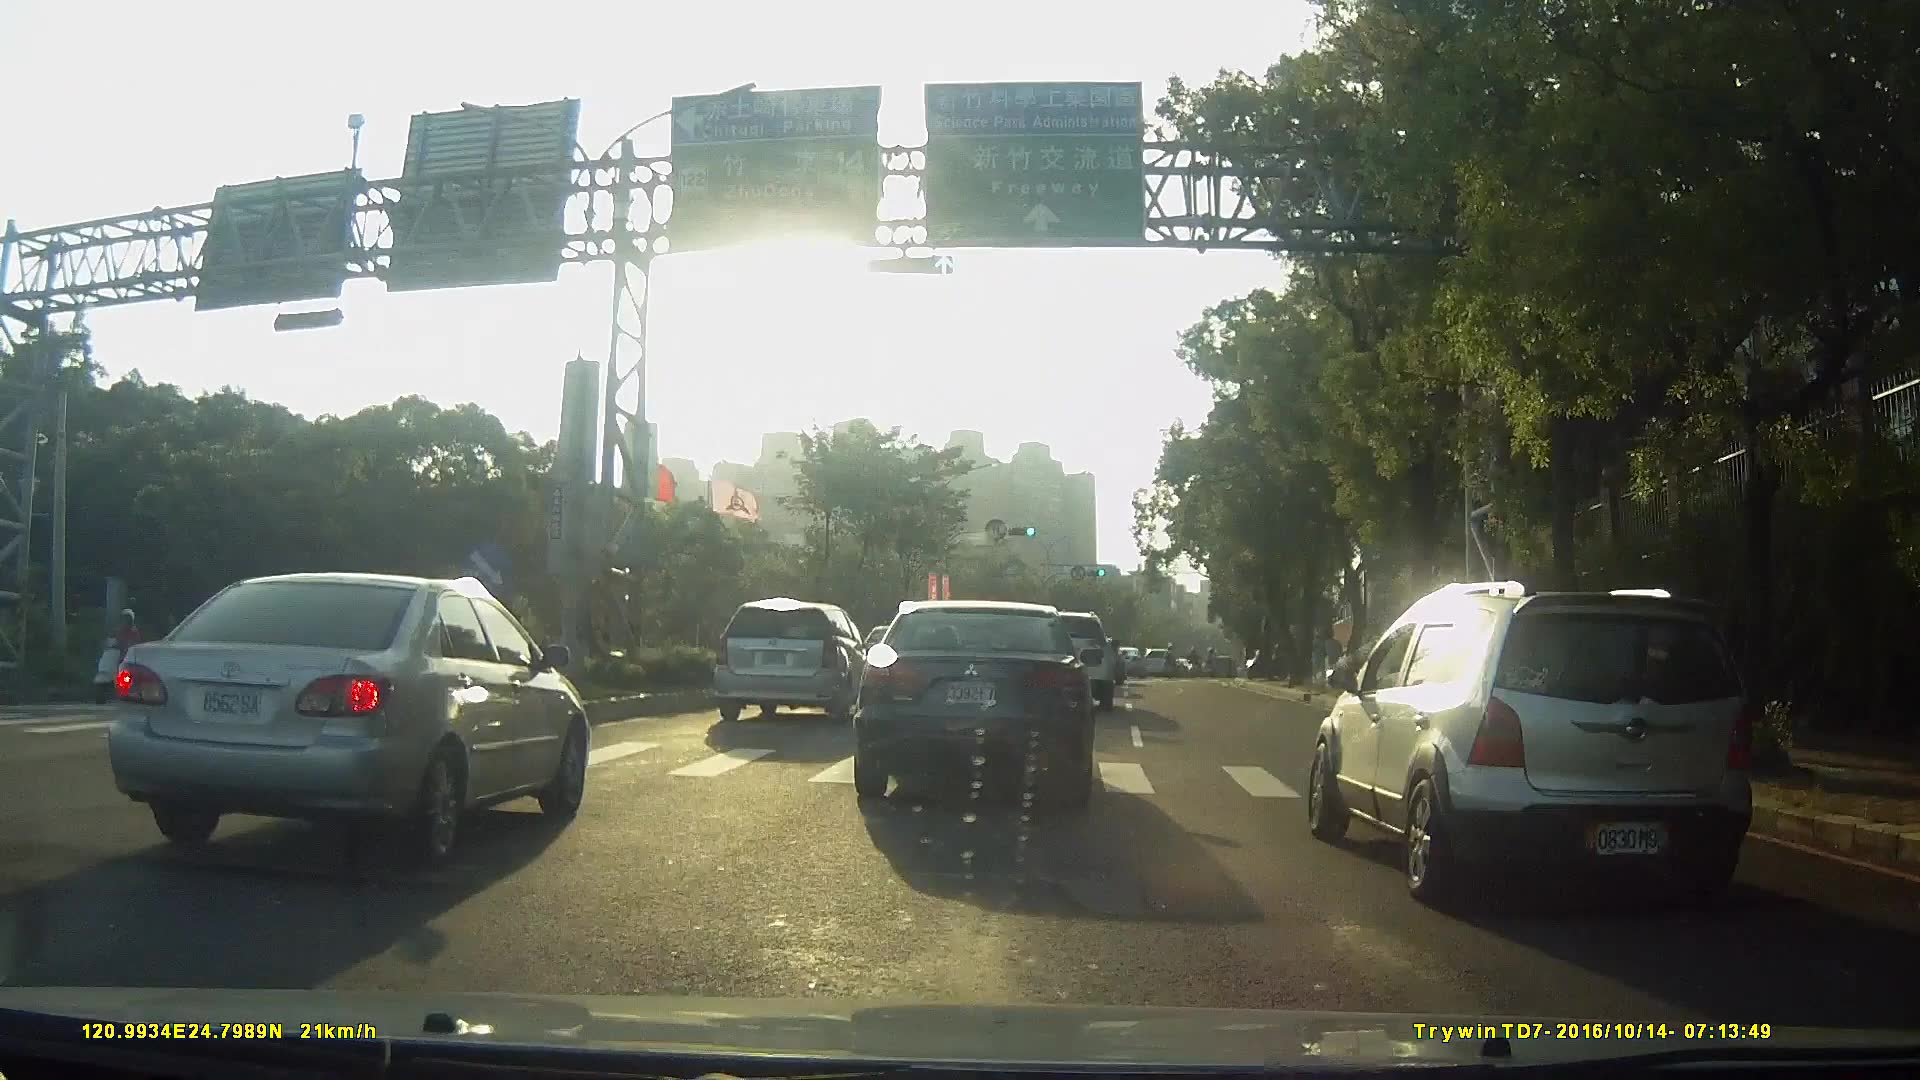rider: (90, 605, 147, 703)
vehicle: (1297, 580, 1784, 930), (84, 566, 607, 873), (852, 595, 1118, 811), (702, 603, 870, 732), (1135, 649, 1168, 678), (1107, 647, 1140, 677)
